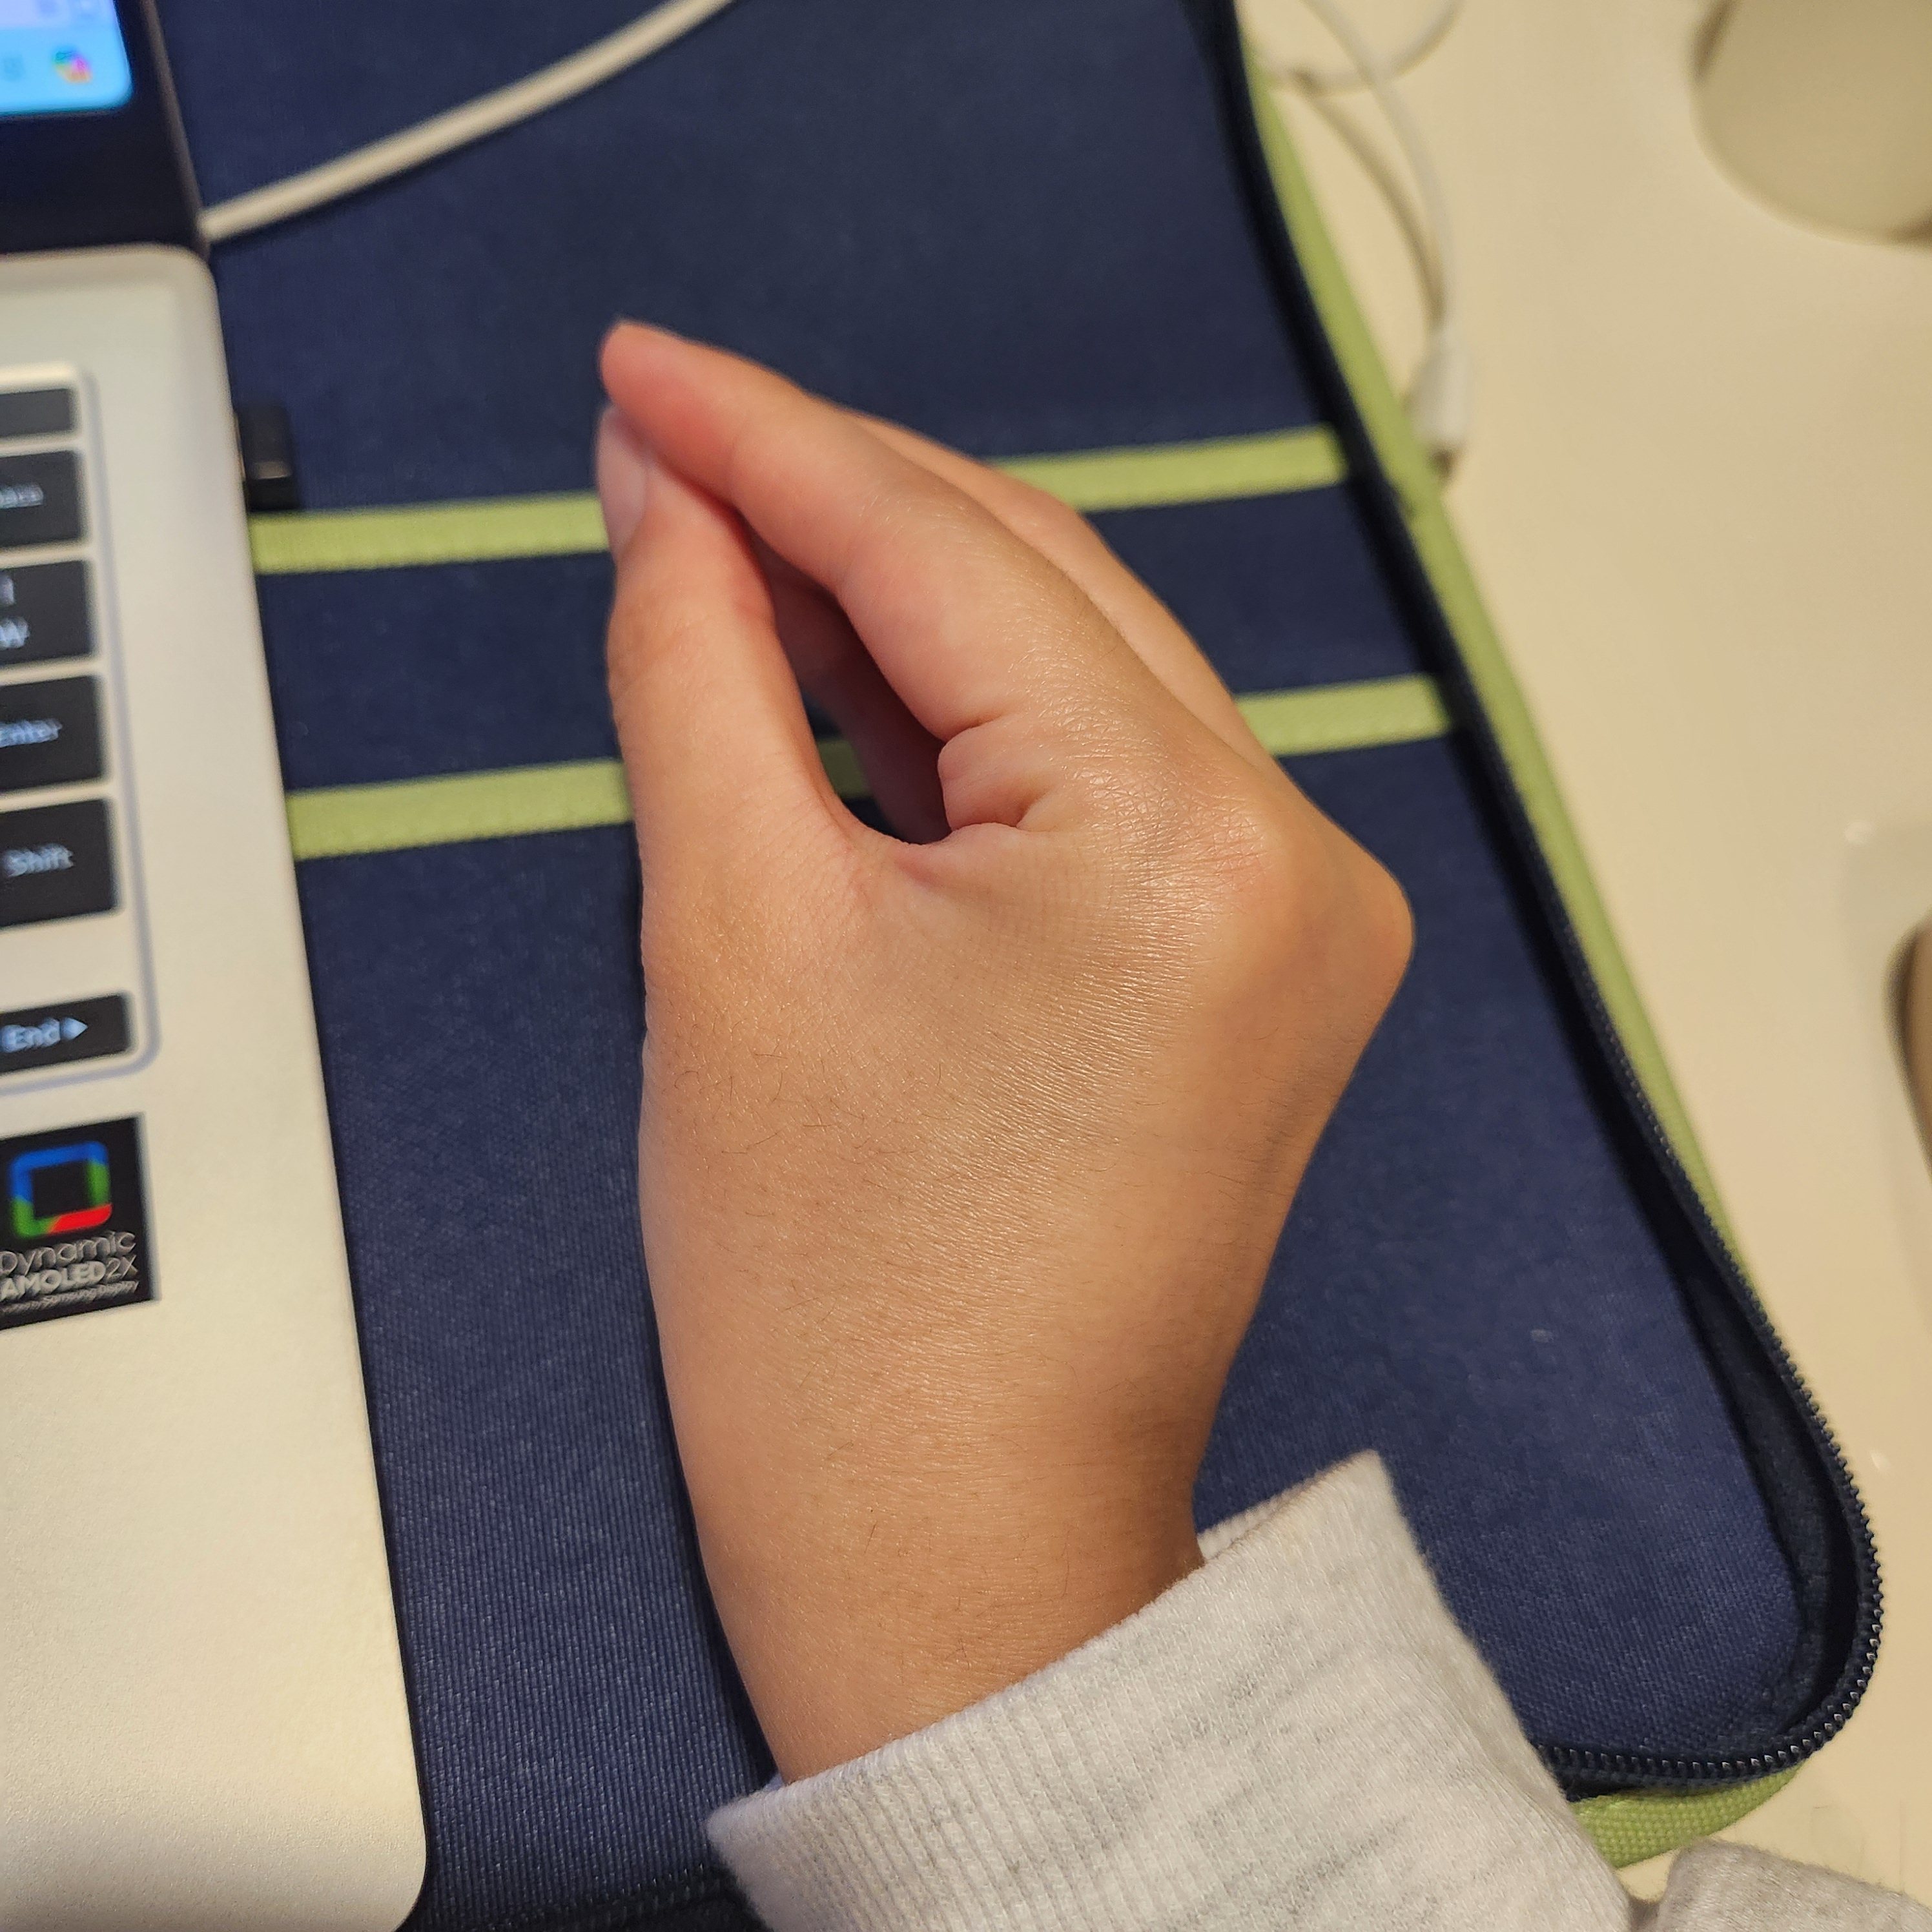happy: (584, 320, 1417, 1484)
